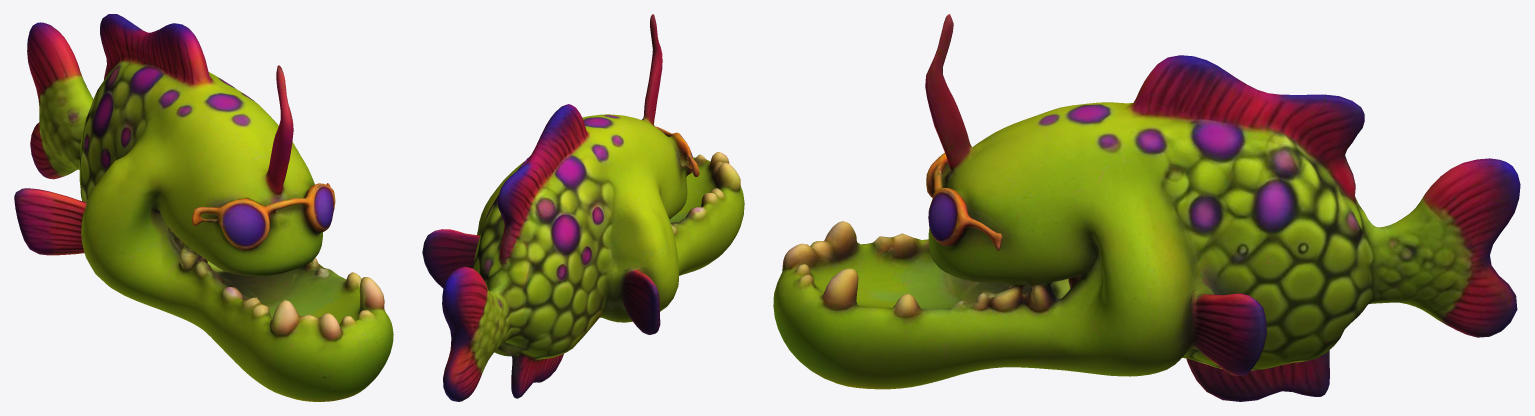
Rendered from reef-fish.glb.
3 views of the same model, side by side, from view 1: azimuth 30°, elevation 25°; view 2: azimuth 150°, elevation 25°; view 3: azimuth 270°, elevation 25° (orthographic). The views are drawn at different scales.
Size of the model in its own units: 0.9806 by 1.14 by 2.
1 material, 1 textured.
